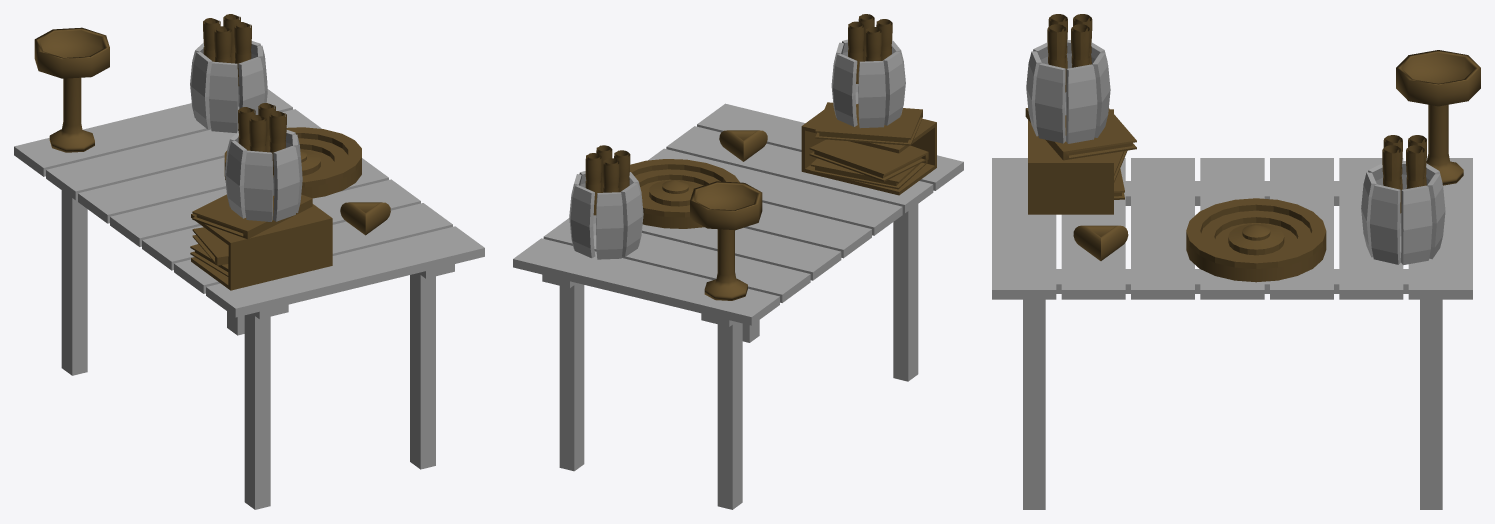
File: mesa4Encantamiento.fbx
3 renders of one model, left to right at view 1: azimuth 30°, elevation 25°; view 2: azimuth 150°, elevation 25°; view 3: azimuth 270°, elevation 25°, orthographic. The views are drawn at different scales.
Parts seen in each view (by area): view 1: polySurface5315, pCube554, pCylinder545, polySurface5309, pCylinder538, polySurface5217, pTorus3, polySurface5215; view 2: polySurface5315, pCylinder545, pCylinder538, polySurface5309, polySurface5215, pCube554, polySurface5217, polySurface5207, pTorus3; view 3: polySurface5315, pCylinder538, pCylinder545, pCube554, polySurface5309, polySurface5217, pTorus3.
Part boxes in pixels (left/top/right/bottom): polySurface5315: left=14, top=41, right=484, bottom=509; pCube554: left=191, top=204, right=332, bottom=290; pCylinder545: left=34, top=27, right=109, bottom=152; polySurface5309: left=203, top=14, right=286, bottom=175; pCylinder538: left=224, top=127, right=361, bottom=198; polySurface5217: left=192, top=194, right=312, bottom=239; pTorus3: left=340, top=202, right=390, bottom=235; polySurface5215: left=192, top=227, right=228, bottom=265; polySurface5315: left=513, top=39, right=963, bottom=509; pCylinder545: left=690, top=181, right=762, bottom=300; pCylinder538: left=630, top=159, right=739, bottom=228; polySurface5309: left=585, top=14, right=892, bottom=215; polySurface5215: left=809, top=139, right=928, bottom=181; pCube554: left=801, top=104, right=936, bottom=195; polySurface5217: left=815, top=102, right=922, bottom=145; polySurface5207: left=810, top=158, right=927, bottom=189; pTorus3: left=719, top=130, right=767, bottom=161; polySurface5315: left=992, top=40, right=1472, bottom=509; pCylinder538: left=1186, top=198, right=1326, bottom=282; pCylinder545: left=1396, top=50, right=1480, bottom=185; pCube554: left=1028, top=109, right=1113, bottom=214; polySurface5309: left=1047, top=14, right=1426, bottom=213; polySurface5217: left=1025, top=108, right=1136, bottom=160; pTorus3: left=1073, top=225, right=1128, bottom=260.
Bounding box in the file's own units: 121 × 175 × 190.
